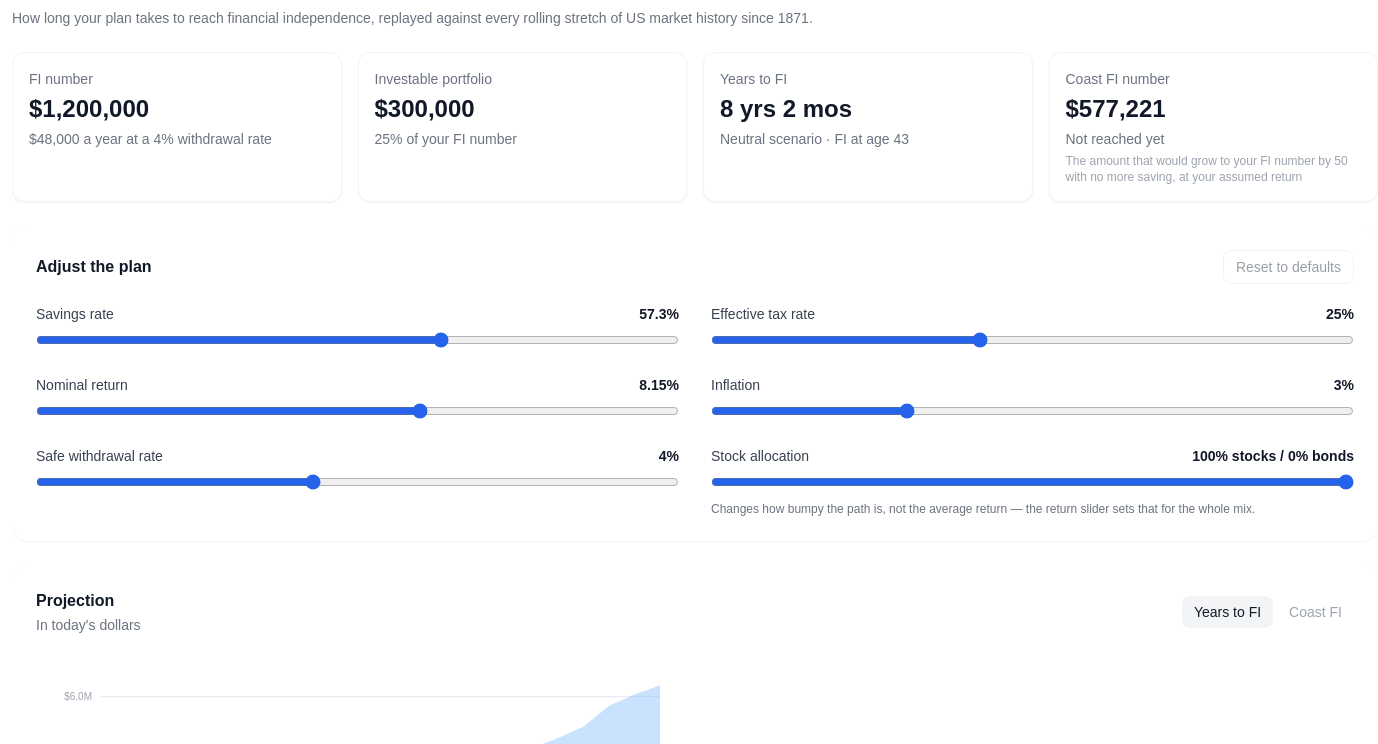
Test: FireCalculatorClient › switches to the Coast FI view
The image size is (1378, 744).
Expected: the text "of historical starts are already Coast FI" is not shown
Click the tab "Coast FI" at (1316, 612), box [1277,596,1354,628]
(page scrolled)
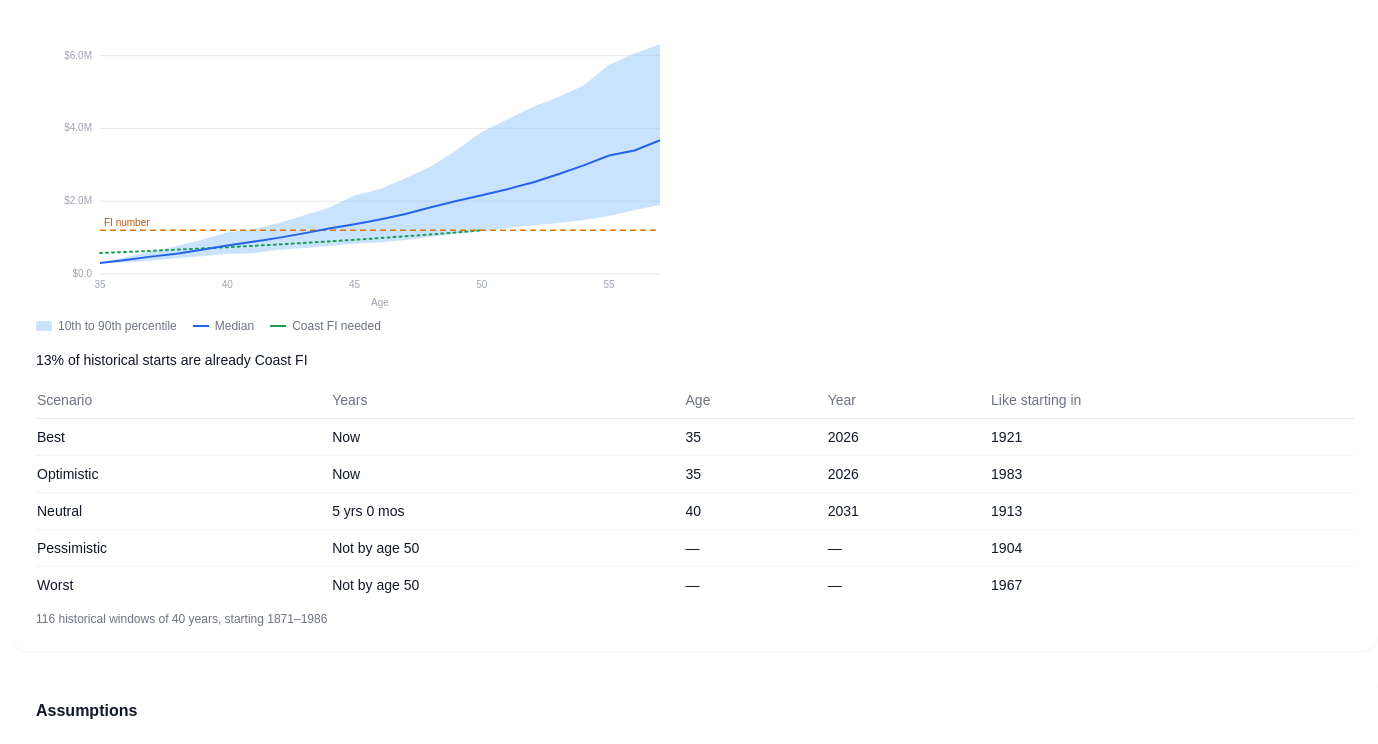
Now the text "13% of historical starts are already Coast FI" is shown, box [36,352,308,368]
